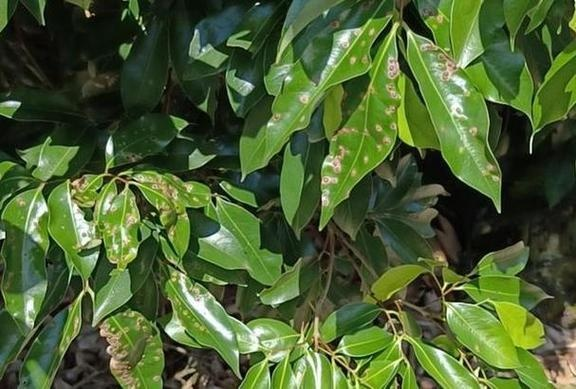Gall_Mite: (322, 27, 415, 183), (54, 148, 186, 255), (421, 20, 507, 159), (72, 290, 185, 368)
